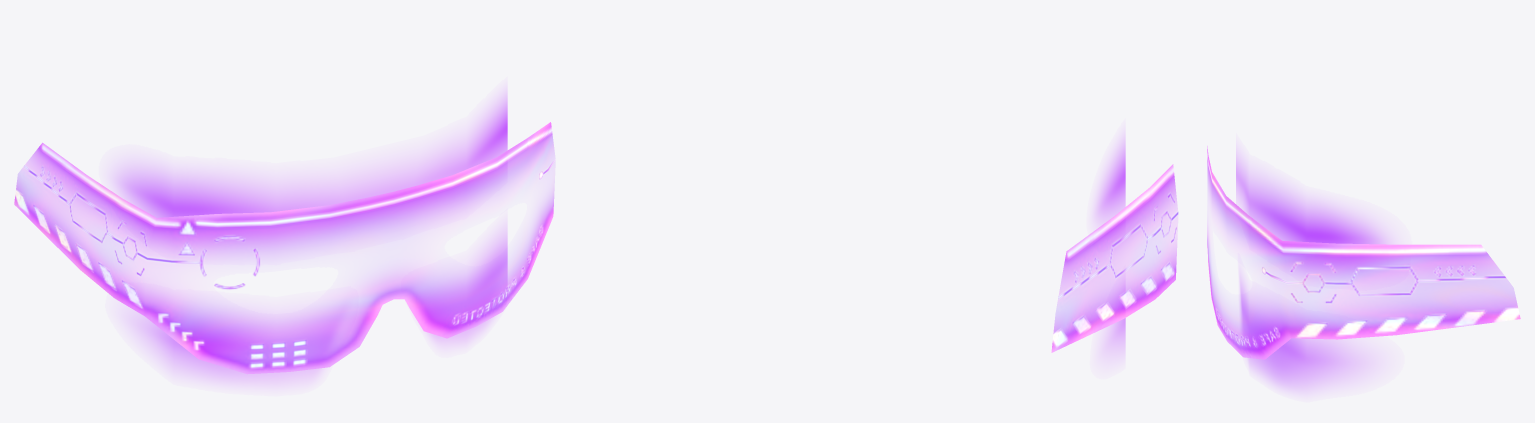
Rendered from Goggle_Purple.glb.
The picture shows the model from 3 angles, left to right: view 1: azimuth 30°, elevation 25°; view 2: azimuth 150°, elevation 25°; view 3: azimuth 270°, elevation 25°; orthographic projection. The views are drawn at different scales.
Visible parts, largest first — view 1: Goggle_Lo_Purple; view 2: Goggle_Lo_Purple; view 3: Goggle_Lo_Purple.
Part boxes in pixels (x1,y1,x2,y2): Goggle_Lo_Purple: [14, 92, 555, 383]; Goggle_Lo_Purple: [1051, 137, 1178, 354]; Goggle_Lo_Purple: [1207, 146, 1520, 390].
Size of the model in its own units: 0.15 by 0.0863 by 0.1019.
Materials: 1 (1 with a texture image).
